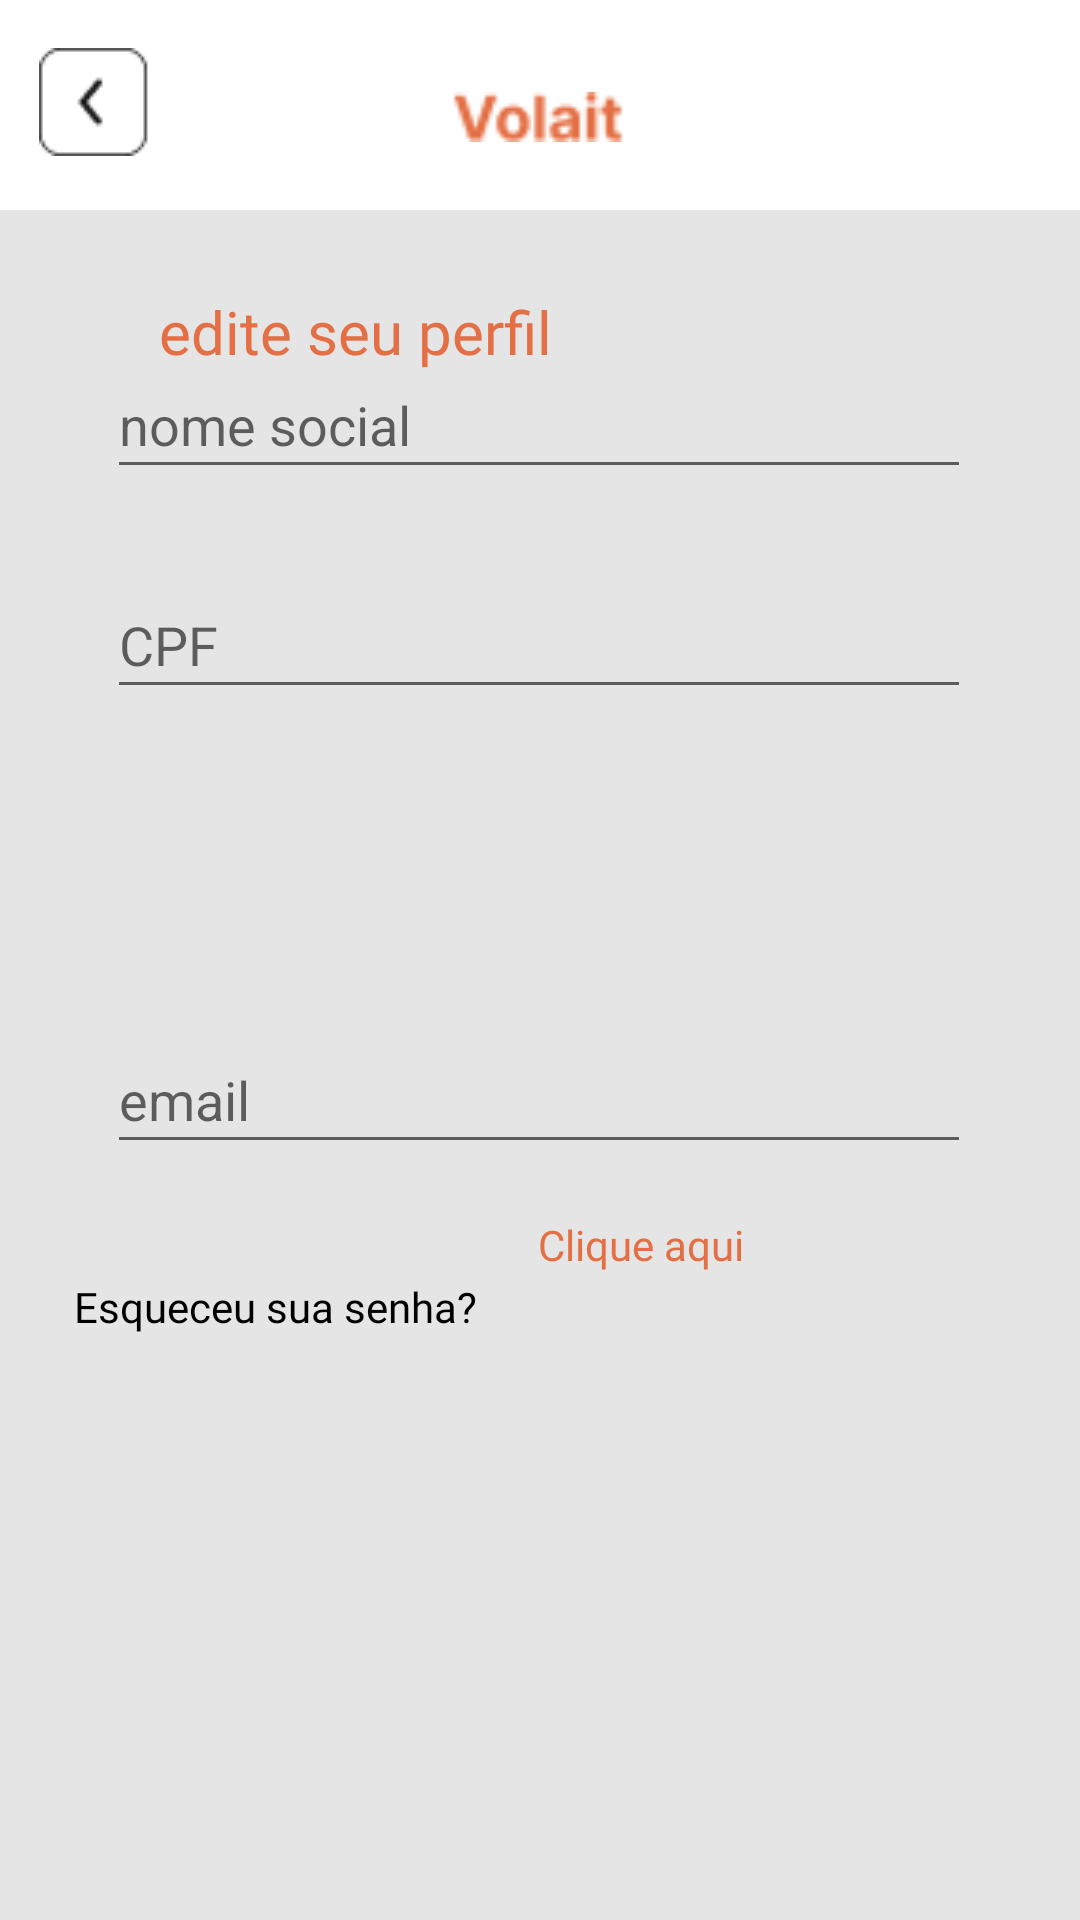

Icons on this 1080×1920 Android screen, each with the point to tap as [x,y]:
setinha: [93,102]
